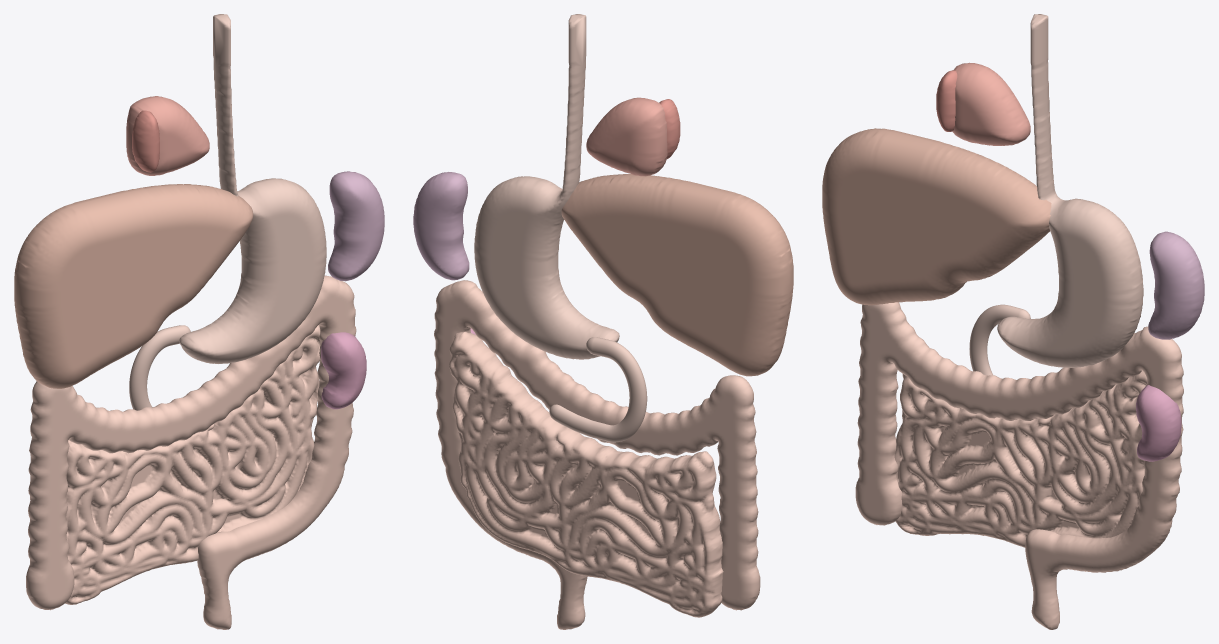
File: organs-simple.glb
The picture shows the model from 3 angles, left to right: view 1: azimuth 30°, elevation 25°; view 2: azimuth 150°, elevation 25°; view 3: azimuth 330°, elevation 25°; orthographic projection.
Visible parts, largest first — view 1: bowel, liver, colon, stomach, spleen, heart, kidney_l, duodenum, heart_ra; view 2: bowel, liver, colon, stomach, heart, spleen, duodenum, heart_ra; view 3: bowel, colon, liver, stomach, heart, spleen, kidney_l, duodenum, heart_ra.
Boxes of the visible parts, <box> form: bowel: <box>65,325,320,604</box>; liver: <box>14,184,253,388</box>; colon: <box>26,275,356,629</box>; stomach: <box>179,14,326,363</box>; spleen: <box>328,171,384,281</box>; heart: <box>126,96,209,175</box>; kidney_l: <box>321,332,366,409</box>; duodenum: <box>129,325,190,410</box>; heart_ra: <box>132,110,159,172</box>; bowel: <box>449,331,723,617</box>; liver: <box>561,174,793,376</box>; colon: <box>434,280,760,629</box>; stomach: <box>474,14,619,359</box>; heart: <box>586,97,667,176</box>; spleen: <box>413,172,469,280</box>; duodenum: <box>549,337,647,442</box>; heart_ra: <box>659,99,680,158</box>; bowel: <box>894,370,1146,547</box>; colon: <box>855,302,1183,629</box>; liver: <box>822,128,1051,305</box>; stomach: <box>997,14,1143,367</box>; heart: <box>952,62,1030,145</box>; spleen: <box>1148,231,1204,339</box>; kidney_l: <box>1136,385,1181,461</box>; duodenum: <box>969,304,1030,375</box>; heart_ra: <box>936,70,957,131</box>.
Size of the model in its own units: 2.43 by 3.87 by 0.484.
